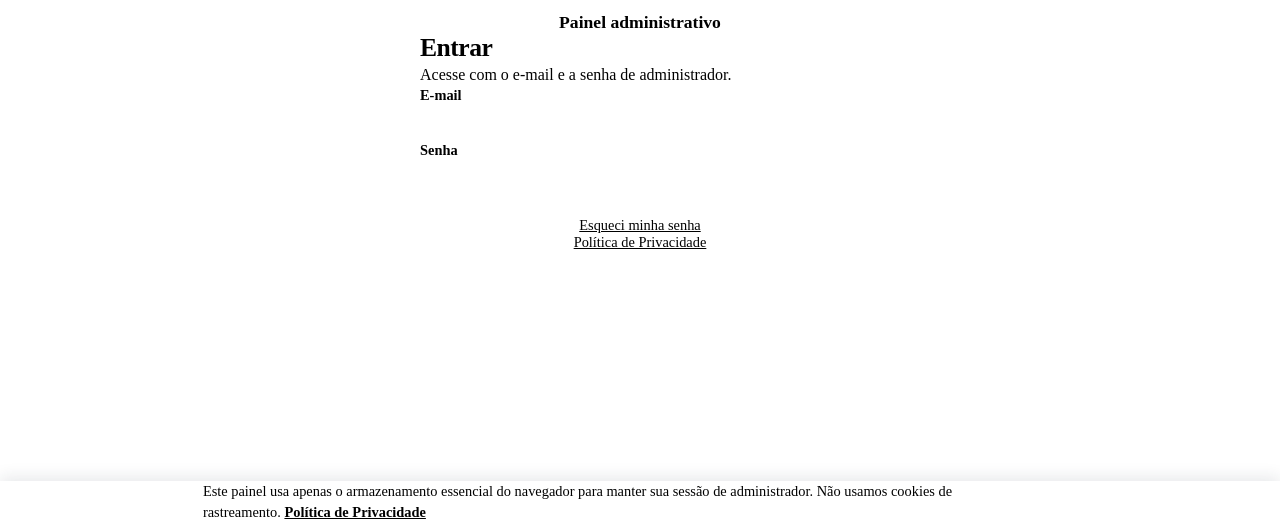
Test: EsqueciSenha (admin) › é pública e o login tem o link "Esqueci minha senha"
This screenshot has width=1280, height=523.
What coordinates should you click on to do the following:
click the link "Esqueci minha senha"
I would click on:
 (640, 225)
Its box is 579,216 -> 701,234.
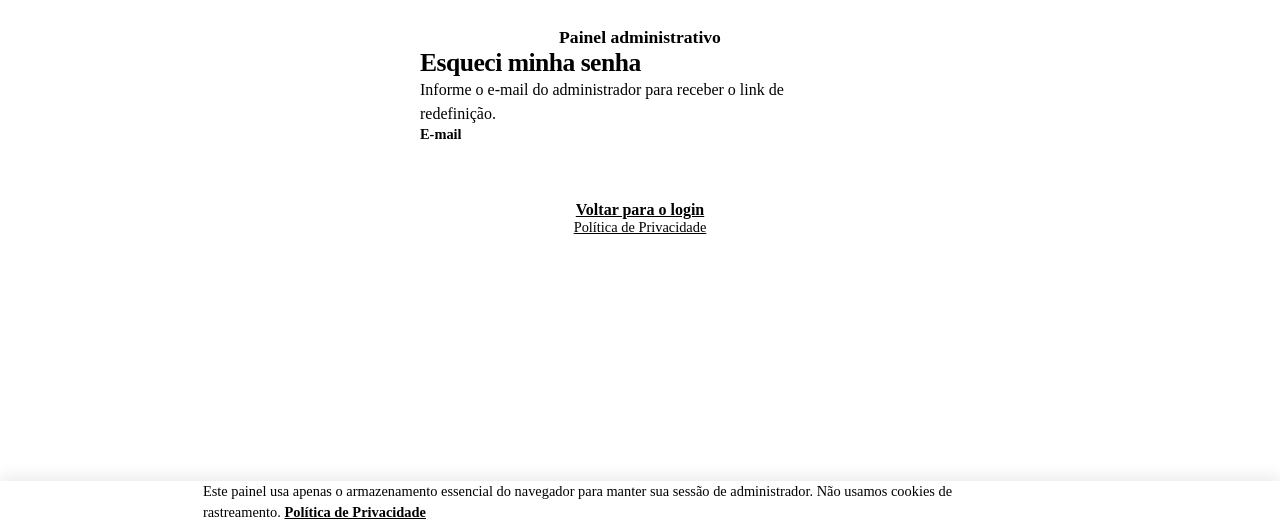
Result: the heading "Esqueci minha senha" is shown at 420,48 -> 641,76
